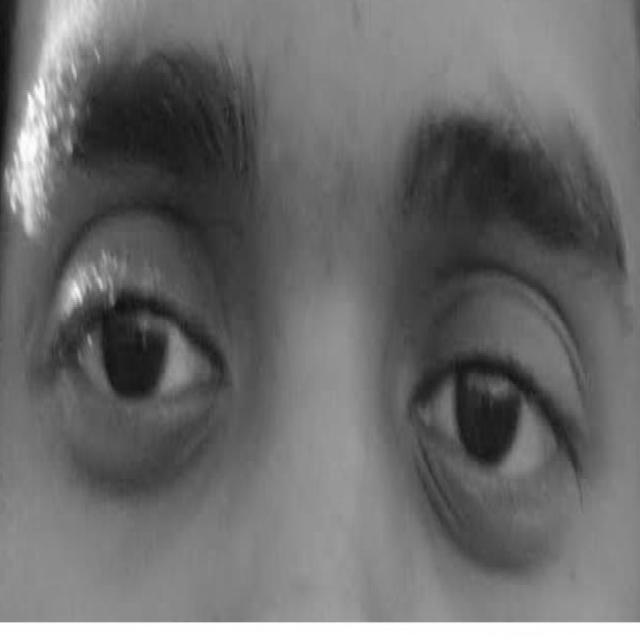real: (32, 76, 610, 596)
